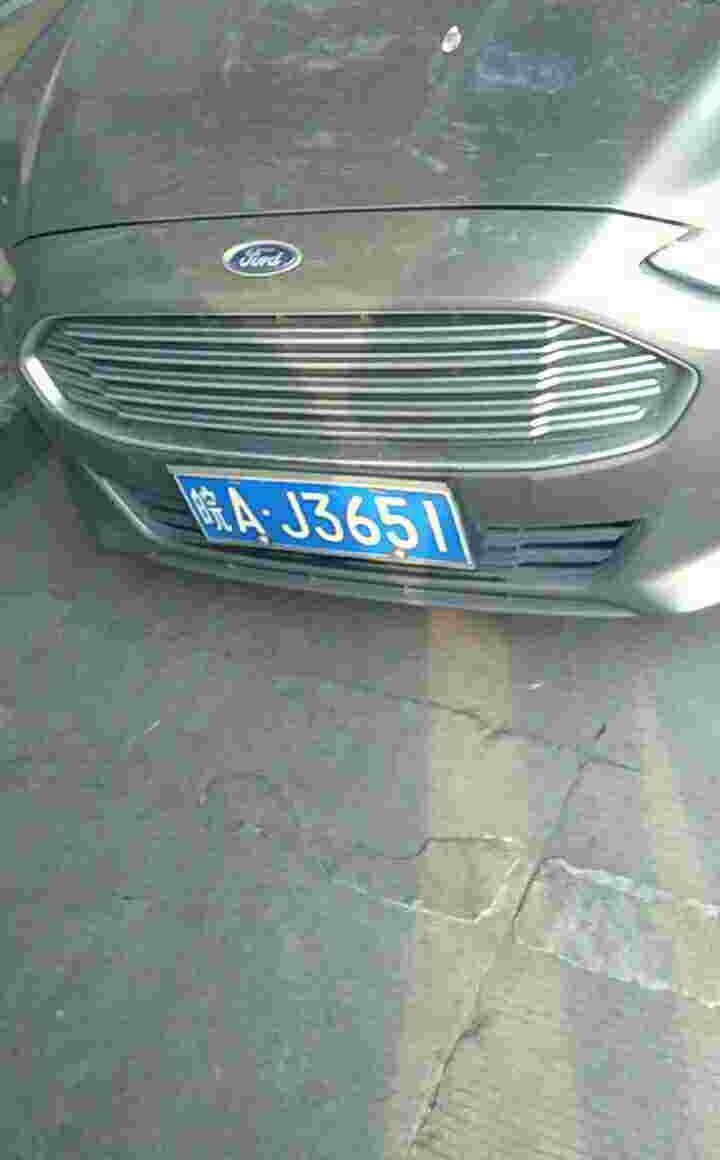car: (179, 461, 464, 566)
